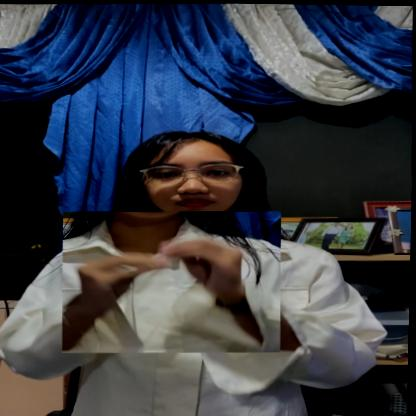Fix: (61, 207, 284, 355)
